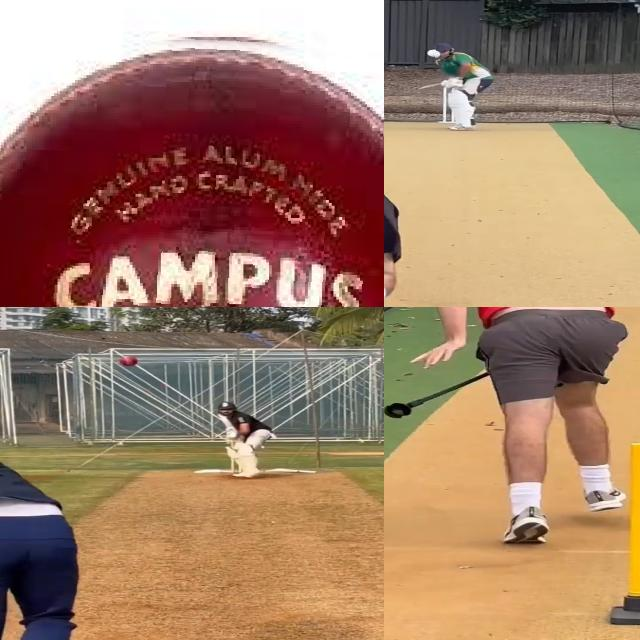Cricket ball: (0, 28, 384, 307), (424, 47, 444, 59), (118, 356, 138, 368)
Stumps: (612, 440, 640, 628)
